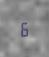six: (19, 20, 28, 36)
